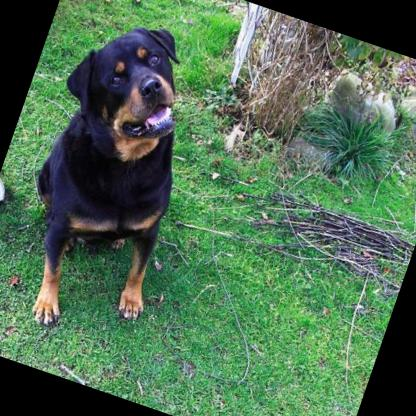Rottweiler: (0, 0, 233, 355)
